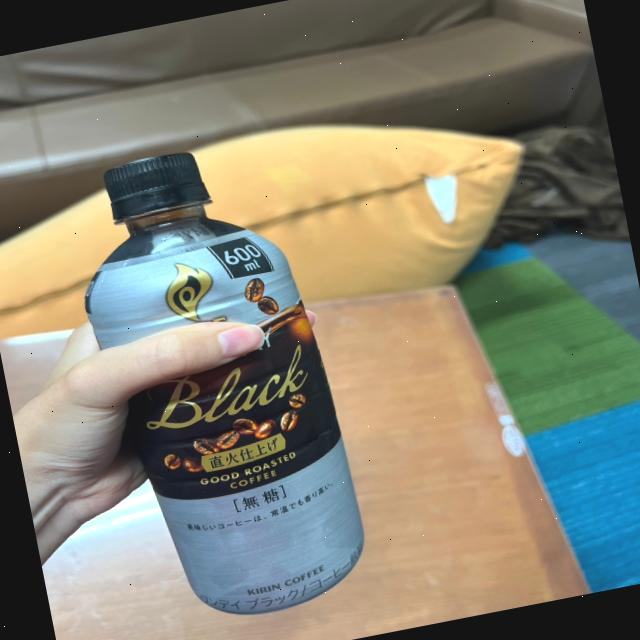coffee-black: (343, 341, 353, 344)
coffee-latte: (50, 124, 394, 636)
